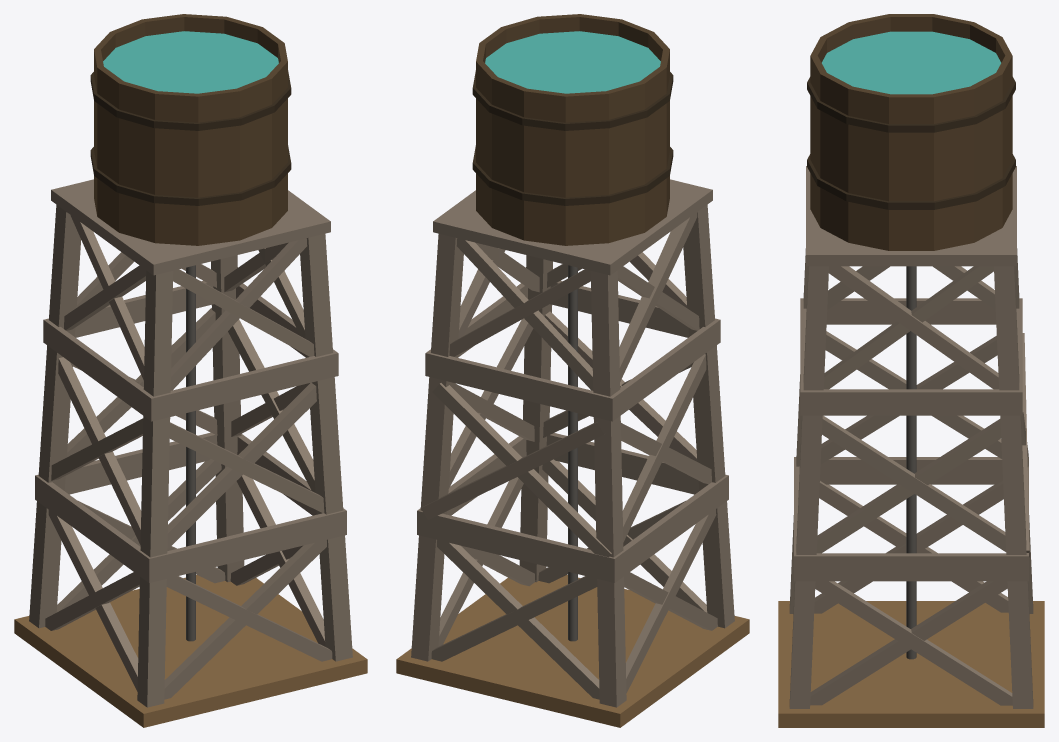
File: WaterTank_1.fbx
3 views of the same model, side by side, from view 1: azimuth 30°, elevation 25°; view 2: azimuth 150°, elevation 25°; view 3: azimuth 270°, elevation 25° (orthographic). The views are drawn at different scales.
Visible parts, largest first — view 1: WaterTank_1; view 2: WaterTank_1; view 3: WaterTank_1.
Part boxes in pixels (bbox=[...]): WaterTank_1: bbox=[14, 14, 367, 727]; WaterTank_1: bbox=[396, 14, 749, 727]; WaterTank_1: bbox=[778, 14, 1044, 727].
Bounding box in the file's own units: 181 × 463 × 181.
